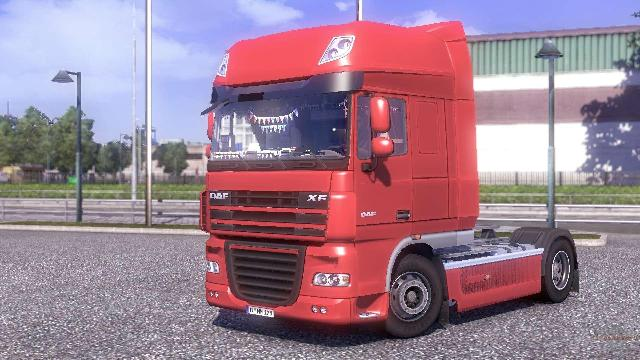truck: (192, 13, 591, 335)
